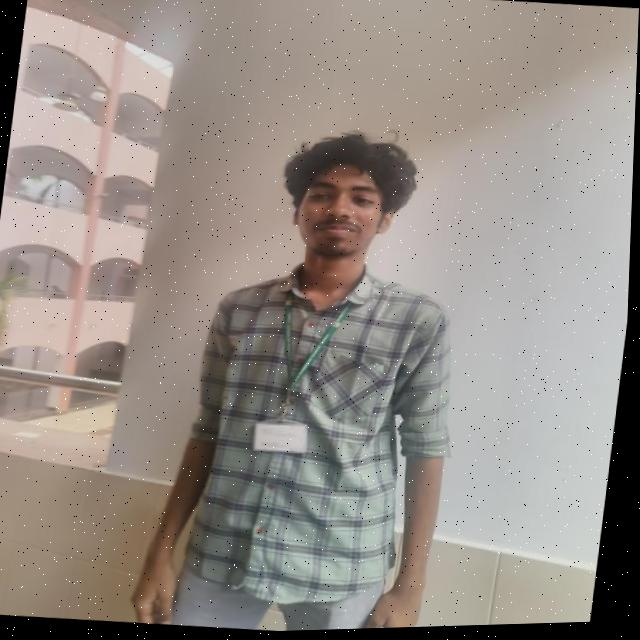id_card: (252, 281, 336, 459)
